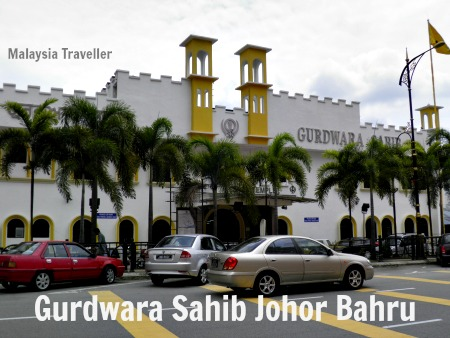Gurdwara: (9, 30, 366, 265)
